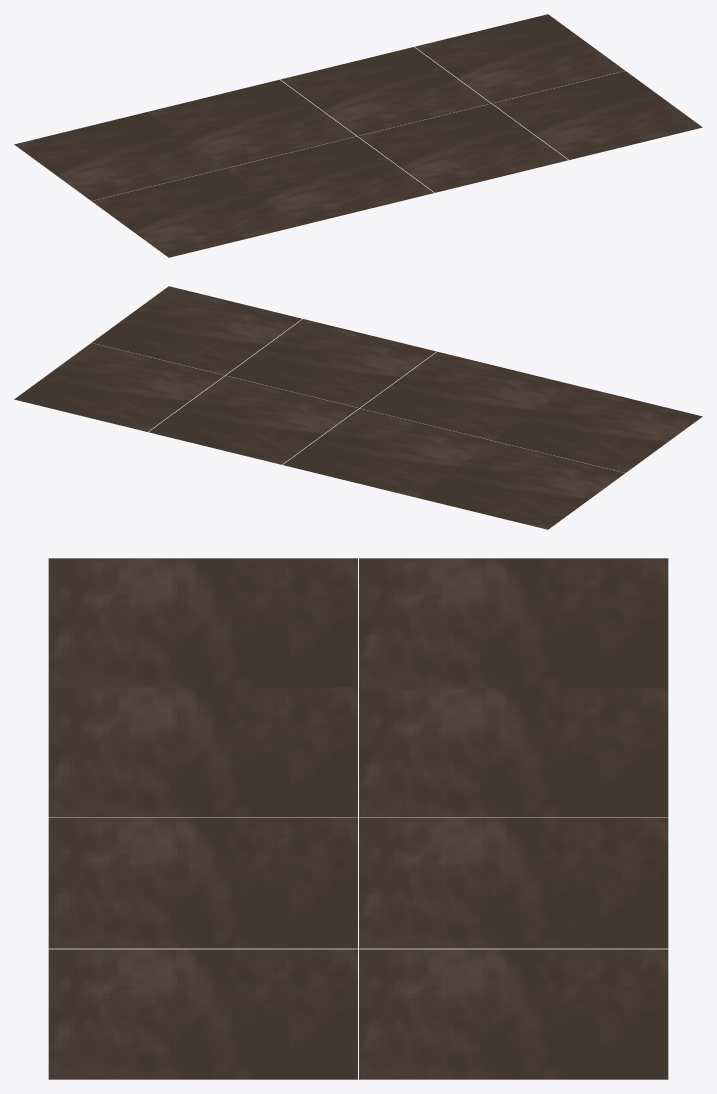
The model's file is FloorFull.fbx.
3 views of the same model, one above another, from view 1: azimuth 30°, elevation 25°; view 2: azimuth 150°, elevation 25°; view 3: azimuth 270°, elevation 25° (orthographic). The views are drawn at different scales.
Parts seen in each view (by area): view 1: Floor_4x8, Floor, Floor_2x4; view 2: Floor_4x8, Floor_2x4, Floor; view 3: Floor_4x8, Floor, Floor_2x4.
Part boxes in pixels (x1,y1,x2,y2): Floor_4x8: (148,14,702,225); Floor: (14,112,224,200); Floor_2x4: (92,168,300,257); Floor_4x8: (14,286,570,497); Floor_2x4: (494,384,702,472); Floor: (416,441,624,529); Floor_4x8: (48,687,668,1079); Floor: (359,558,668,688); Floor_2x4: (48,558,357,688).
Bounding box in the file's own units: 796 × 4.88e-14 × 400.
